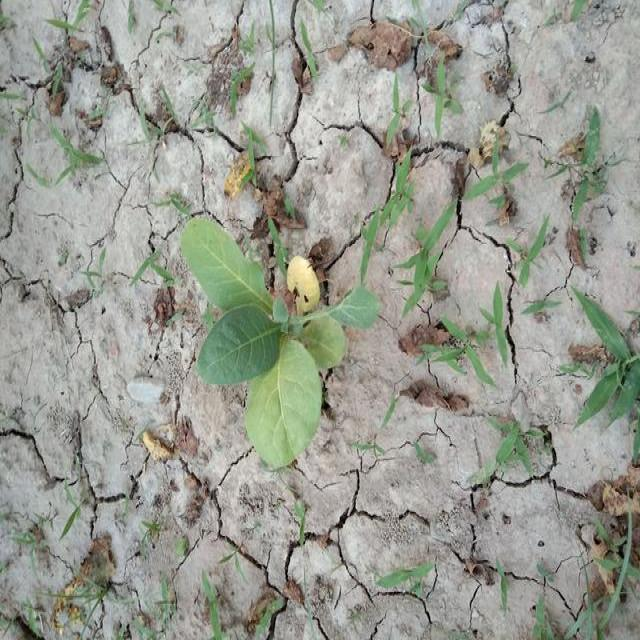crop: (178, 209, 383, 474)
